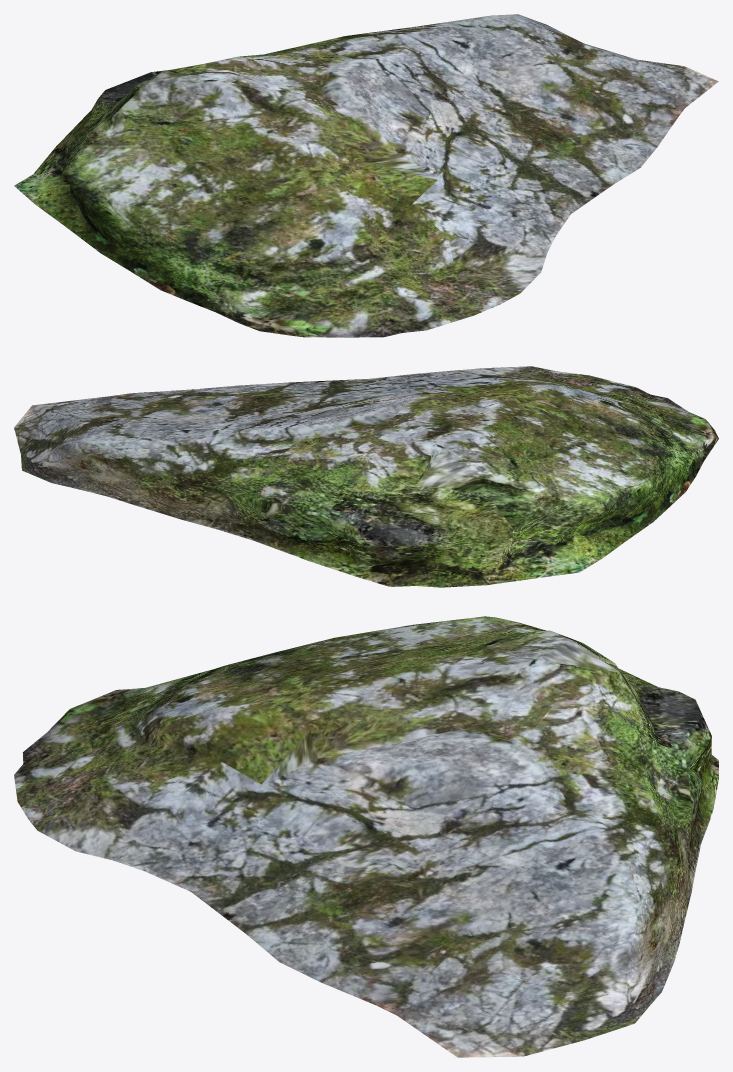
The model's file is Mossy_Slab_3.glb.
3 renders of one model, top to bottom at view 1: azimuth 30°, elevation 25°; view 2: azimuth 150°, elevation 25°; view 3: azimuth 270°, elevation 25°, orthographic. The views are drawn at different scales.
Visible parts, largest first — view 1: Mossy_Slab_3; view 2: Mossy_Slab_3; view 3: Mossy_Slab_3.
Boxes of the visible parts, left/top/right/bottom form: Mossy_Slab_3: left=14, top=14, right=718, bottom=337; Mossy_Slab_3: left=14, top=366, right=718, bottom=587; Mossy_Slab_3: left=14, top=616, right=718, bottom=1057.
Bounding box in the file's own units: 1.1 × 0.16 × 0.8482.
1 material, 1 textured.
